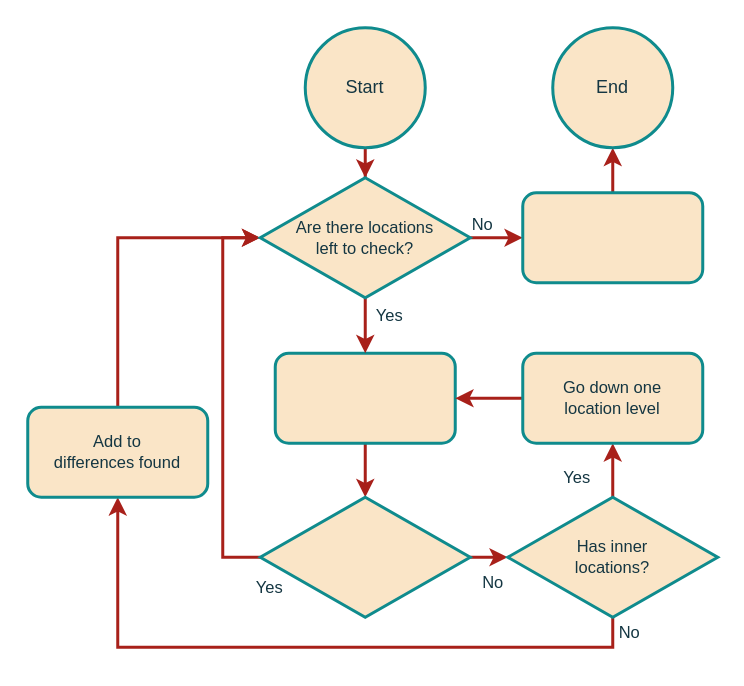
Image size: 744x686. Some labels were removed from this diagram. The box of each missing label's shape, as (x1, y1, x2, y2) in pixels:
Are reference and observed states equal?: (258, 495, 471, 618)
Check next location: (273, 351, 456, 444)
Report differences found: (520, 190, 704, 284)
